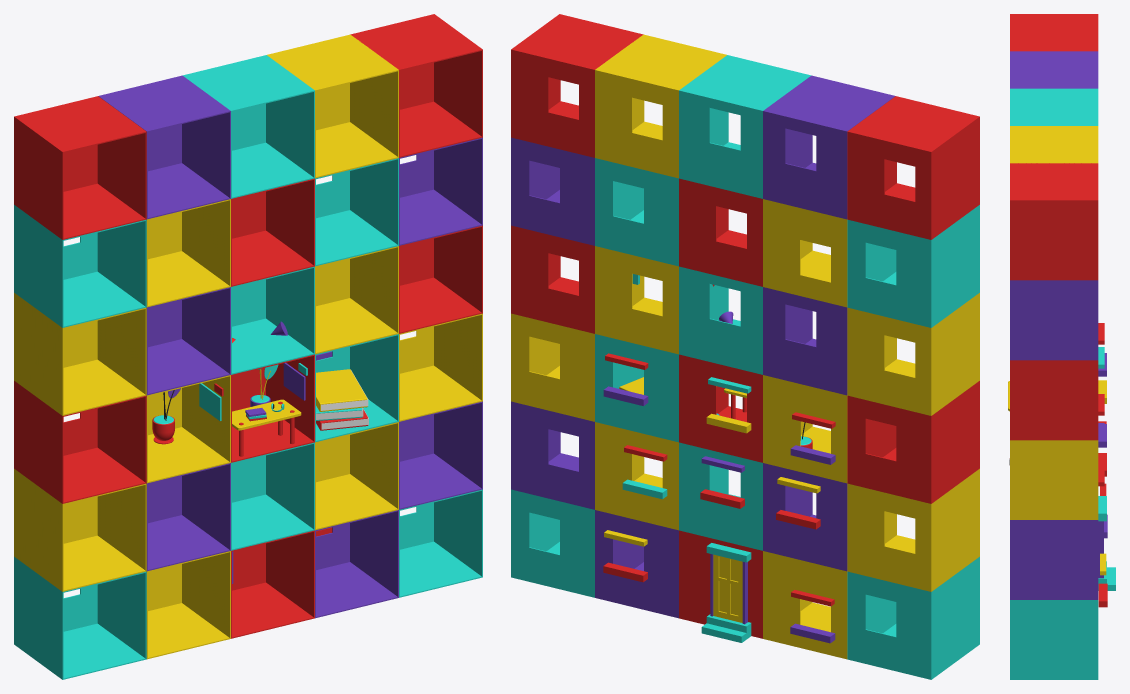
Rendered from ttc-explainer-poc-static-old.glb.
The picture shows the model from 3 angles, left to right: view 1: azimuth 30°, elevation 25°; view 2: azimuth 150°, elevation 25°; view 3: azimuth 270°, elevation 25°; orthographic projection. The views are drawn at different scales.
Parts seen in each view (by area): view 1: outer - baked 23, outer - baked 19, outer - baked 21, outer - baked 20, outer - baked 18, outer - baked 22, outer - baked 7, outer - baked 3, outer - baked 11, outer - baked 29, outer - baked 5, outer - baked 8 (+20 smaller); view 2: outer - baked 23, outer - baked 20, outer - baked 18, outer - baked 22, outer - baked 7, outer - baked 19, outer - baked 21, outer - baked 3, outer - baked 11, outer - baked 29, outer - baked 8, outer - baked 9 (+19 smaller); view 3: outer - baked 29, outer - baked 28, outer - baked 27, outer - baked 26, outer - baked 24, outer - baked 25, outer - baked 7, outer - baked 3, outer - baked 11, outer - baked 23, bottom (×3), door 2 (+1 smaller).
Boxes of the visible parts, x1,y1,x2,y2 form: outer - baked 23: (14,96,146,239); outer - baked 19: (14,468,146,591); outer - baked 21: (14,293,146,415); outer - baked 20: (14,381,146,503); outer - baked 18: (14,556,146,679); outer - baked 22: (14,205,146,327); outer - baked 7: (98,75,230,219); outer - baked 3: (182,55,314,198); outer - baked 11: (267,34,398,178); outer - baked 29: (350,14,482,157); outer - baked 5: (146,199,230,307); outer - baked 8: (146,287,230,395); outer - baked 23: (847,96,979,239); outer - baked 20: (847,381,979,503); outer - baked 18: (847,556,979,679); outer - baked 22: (847,205,979,327); outer - baked 7: (763,75,895,219); outer - baked 19: (847,468,979,591); outer - baked 21: (847,293,979,415); outer - baked 3: (679,55,811,198); outer - baked 11: (595,34,726,178); outer - baked 29: (511,14,643,157); outer - baked 8: (763,287,847,395); outer - baked 9: (595,158,678,266); outer - baked 29: (1010,163,1098,280); outer - baked 28: (1010,280,1098,360); outer - baked 27: (1010,360,1098,440); outer - baked 26: (1010,440,1098,519); outer - baked 24: (1010,600,1098,679); outer - baked 25: (1010,520,1098,599); outer - baked 7: (1010,51,1098,88); outer - baked 3: (1010,88,1098,125); outer - baked 11: (1010,126,1098,163); outer - baked 23: (1010,14,1098,51); bottom (×3): (1098,424,1107,607); door 2: (1098,521,1103,578).
Size of the model in its own units: 2 by 2.4 by 0.4886.
